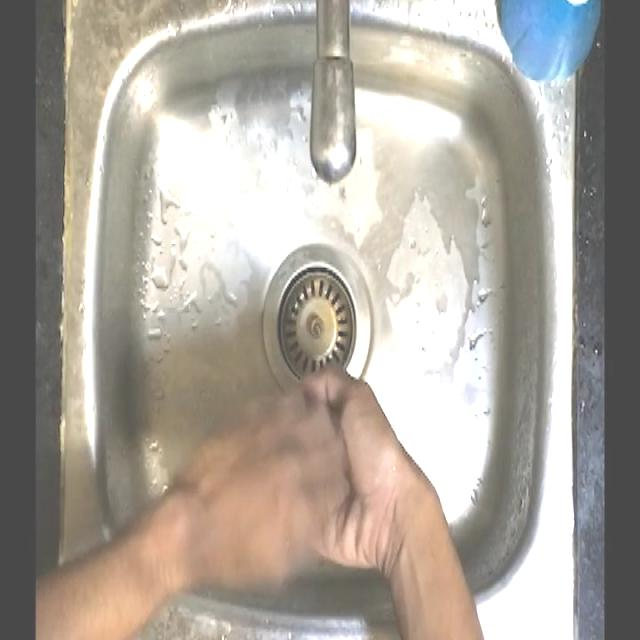step_4: (181, 353, 412, 592)
